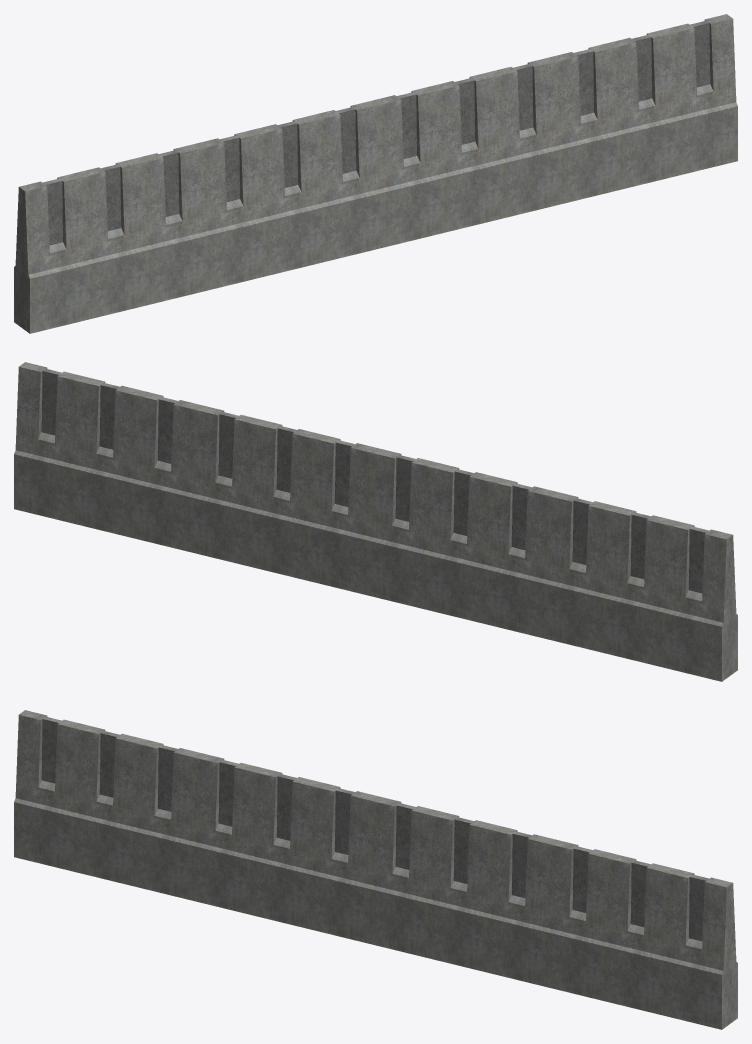
File: mun_all_military_wall_weak_impl_32_s01_l0.fbx
3 renders of one model, top to bottom at view 1: azimuth 30°, elevation 25°; view 2: azimuth 150°, elevation 25°; view 3: azimuth 330°, elevation 25°, orthographic.
Visible parts, largest first — view 1: mesh_node; view 2: mesh_node; view 3: mesh_node.
Part boxes in pixels (left/top/right/bottom): mesh_node: left=14, top=14, right=737, bottom=333; mesh_node: left=14, top=362, right=737, bottom=681; mesh_node: left=14, top=710, right=737, bottom=1029.
Bounding box in the file's own units: 32 × 6 × 1.25.
